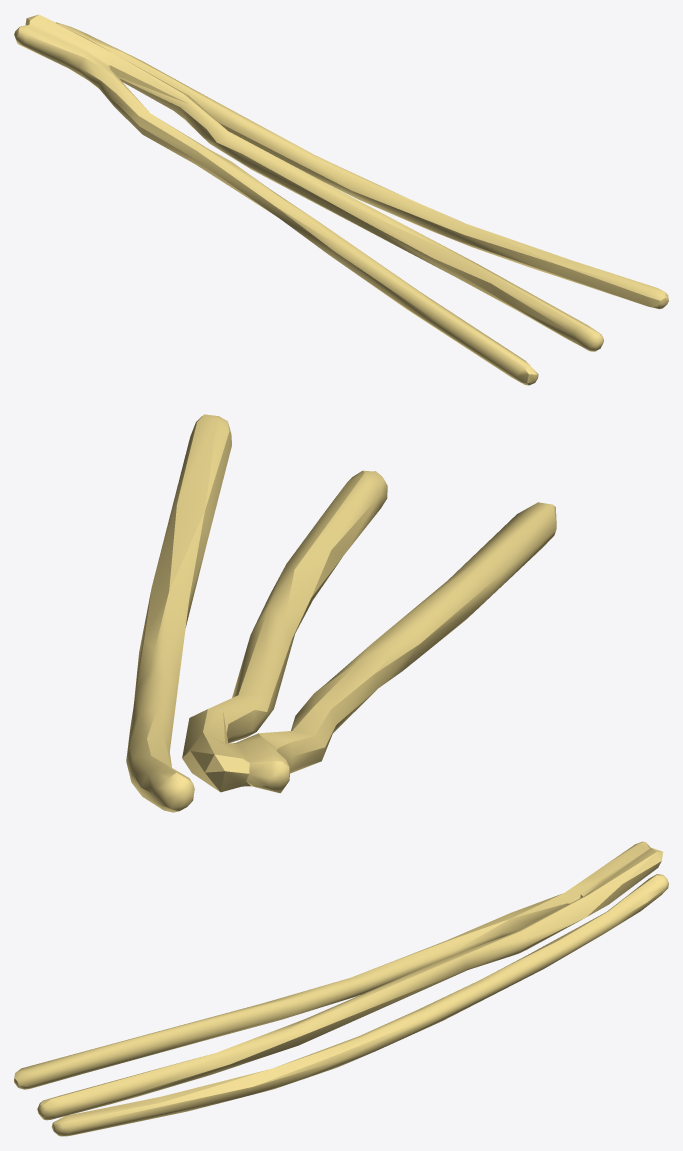
File: fma7041_fj1319.glb
3 renders of one model, top to bottom at view 1: azimuth 30°, elevation 25°; view 2: azimuth 150°, elevation 25°; view 3: azimuth 270°, elevation 25°, orthographic. The views are drawn at different scales.
Parts seen in each view (by area): view 1: FMA7041_FJ1319; view 2: FMA7041_FJ1319; view 3: FMA7041_FJ1319.
Boxes of the visible parts, bbox=[...] form: FMA7041_FJ1319: bbox=[14, 14, 668, 385]; FMA7041_FJ1319: bbox=[126, 414, 556, 812]; FMA7041_FJ1319: bbox=[14, 841, 668, 1136].
Bounding box in the file's own units: 0.00908 × 0.00417 × 0.0153.
